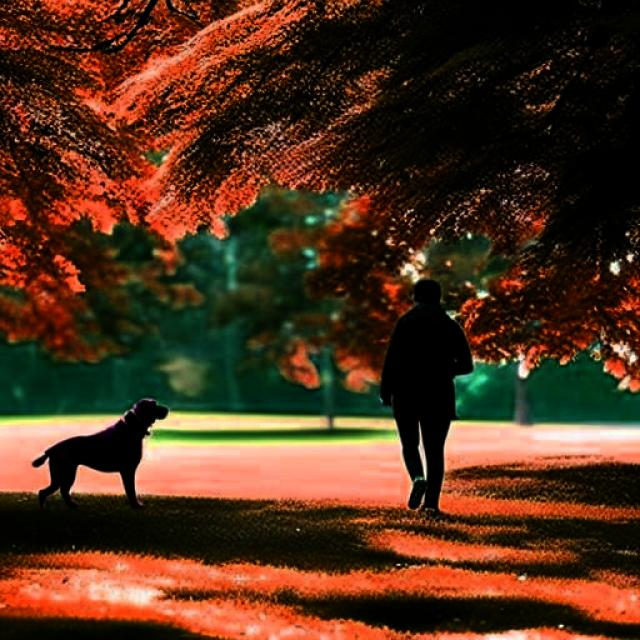Unleashed_Dog: (31, 378, 452, 511)
